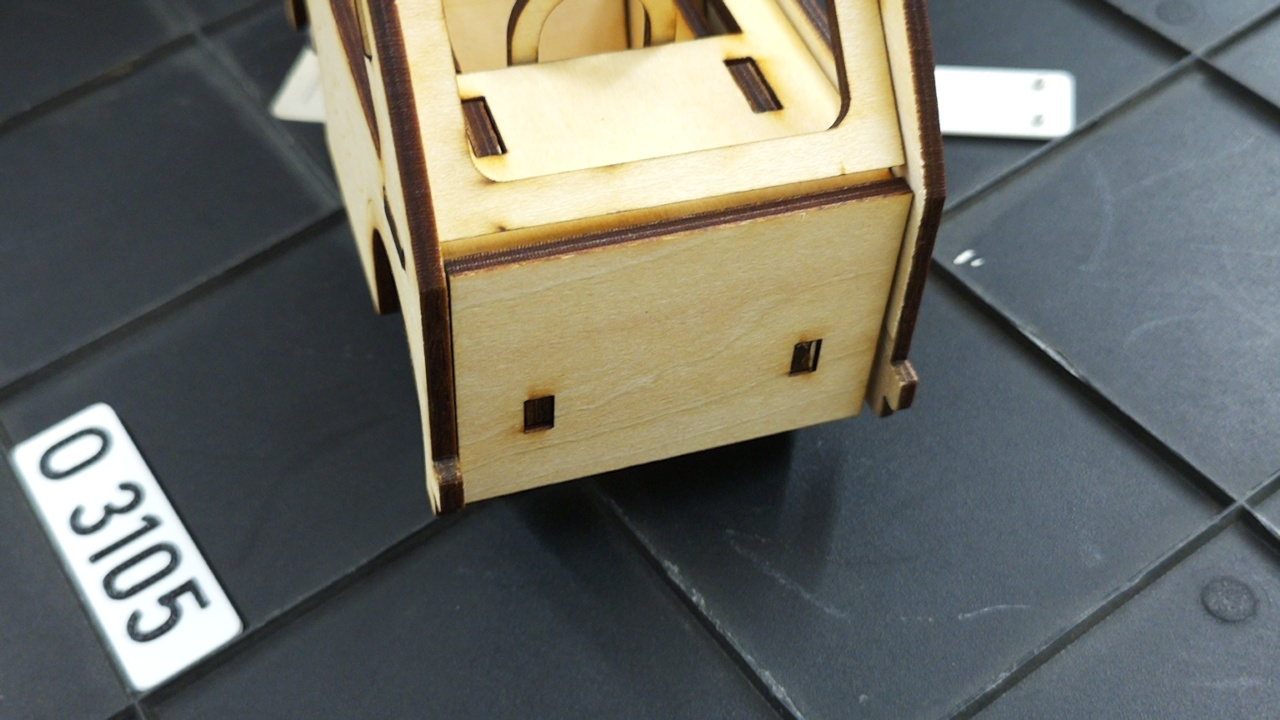license_plate: (12, 399, 248, 696)
